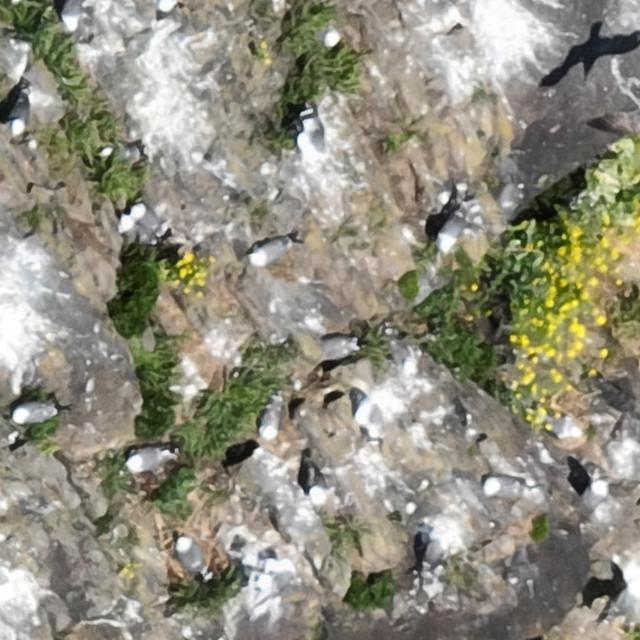umineko: (604, 582, 639, 626), (298, 112, 327, 164), (579, 479, 611, 519), (422, 534, 451, 576), (178, 538, 207, 575), (438, 214, 466, 249), (126, 448, 168, 470), (250, 240, 290, 263), (94, 144, 140, 164), (132, 206, 164, 233), (261, 401, 282, 439), (15, 404, 54, 423), (319, 337, 356, 357), (60, 2, 79, 38), (485, 478, 522, 496), (10, 98, 28, 133), (307, 468, 324, 498), (155, 0, 176, 11)
